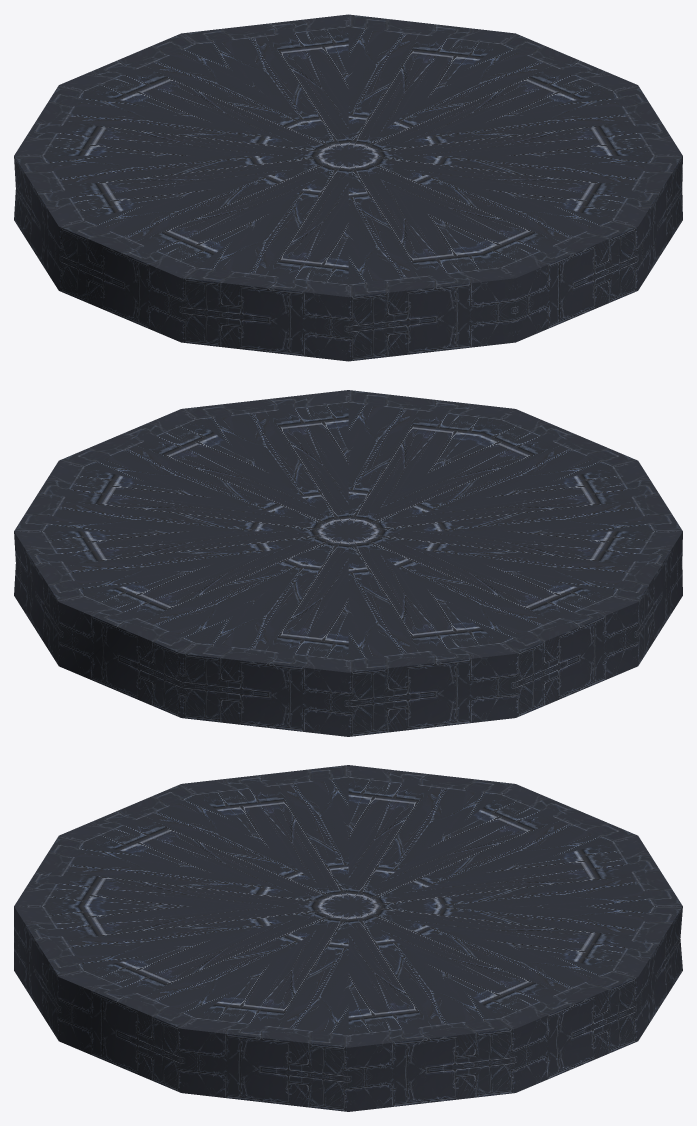
The model's file is polygonalmind-lunar-year-009.glb.
The picture shows the model from 3 angles, top to bottom: view 1: azimuth 30°, elevation 25°; view 2: azimuth 150°, elevation 25°; view 3: azimuth 270°, elevation 25°; orthographic projection.
Parts seen in each view (by area): view 1: ColumnBase; view 2: ColumnBase; view 3: ColumnBase.
Part boxes in pixels (x1=…): ColumnBase: x1=14, y1=14, x2=682, y2=361; ColumnBase: x1=14, y1=390, x2=682, y2=736; ColumnBase: x1=14, y1=765, x2=682, y2=1111.
Bounding box in the file's own units: 1.95 × 0.2069 × 1.95.
1 material, 1 textured.
